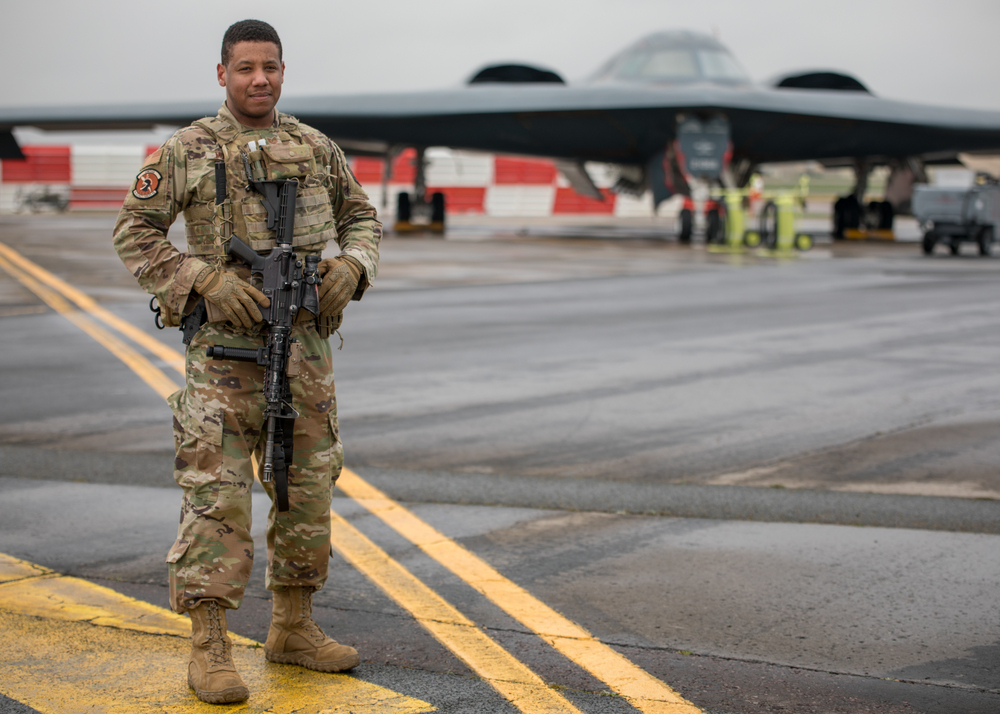B2: (1, 23, 1000, 243)
